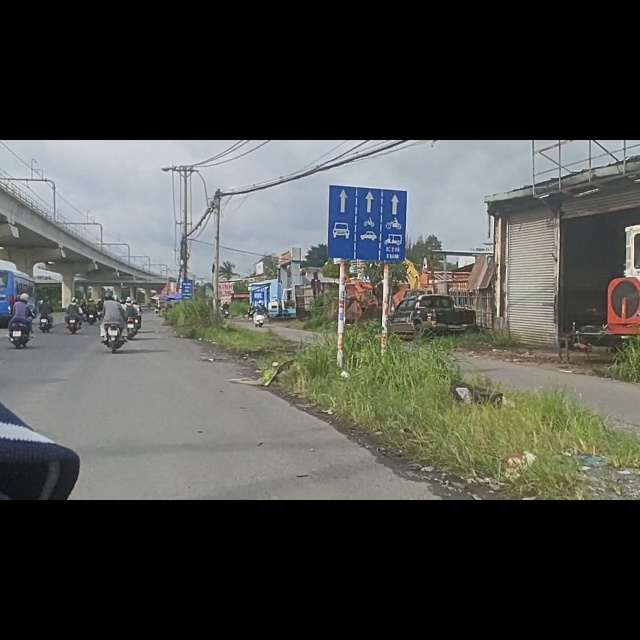bien_nguy_hiem: (327, 75, 407, 216)
